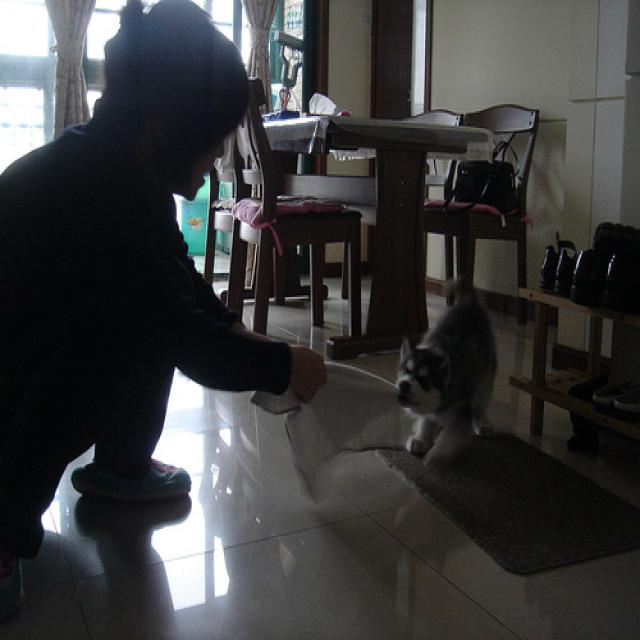Dog: (402, 261, 505, 480)
